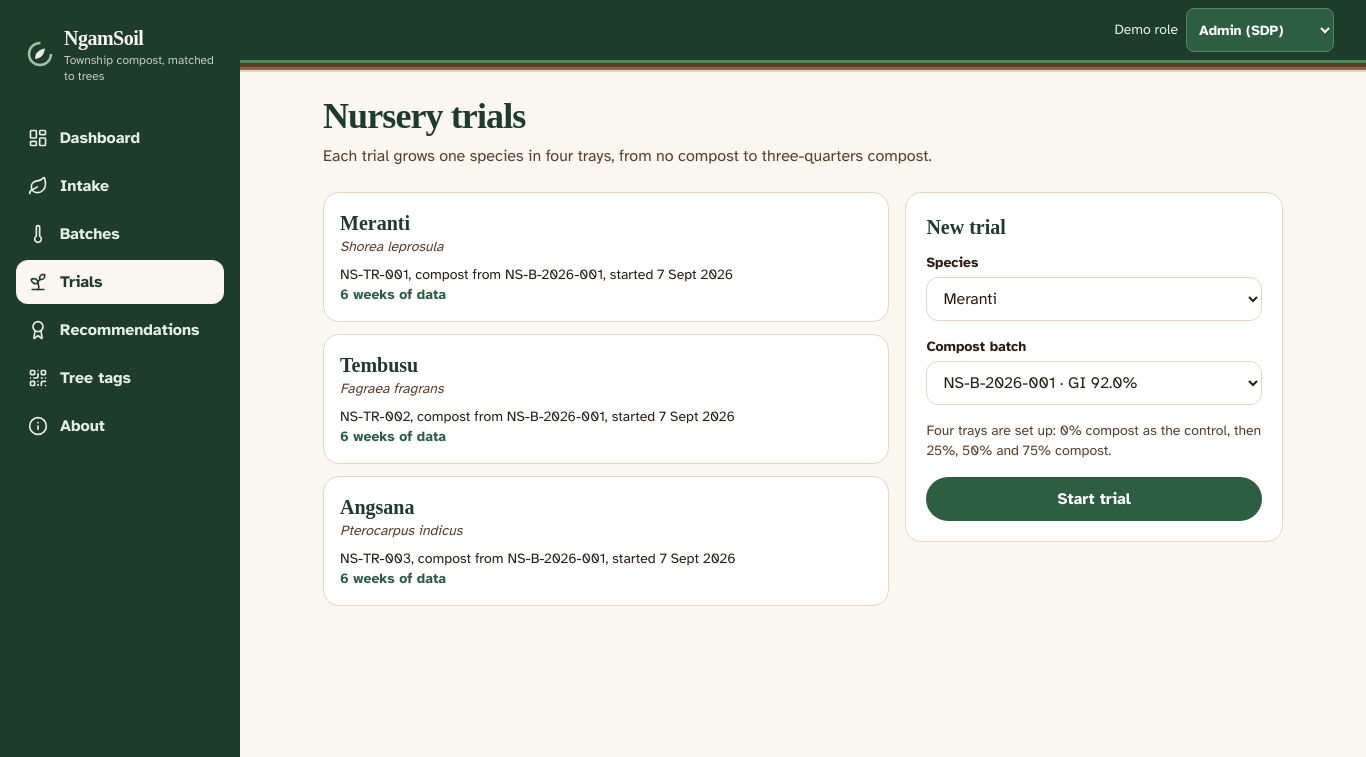
Test case: TrialsPage › creates a trial with four trays
The width and height of the screenshot is (1366, 757).
Select "Angsana" in the dropdown labelled "Species". click: x=1094, y=299
box: [926,277,1262,321]
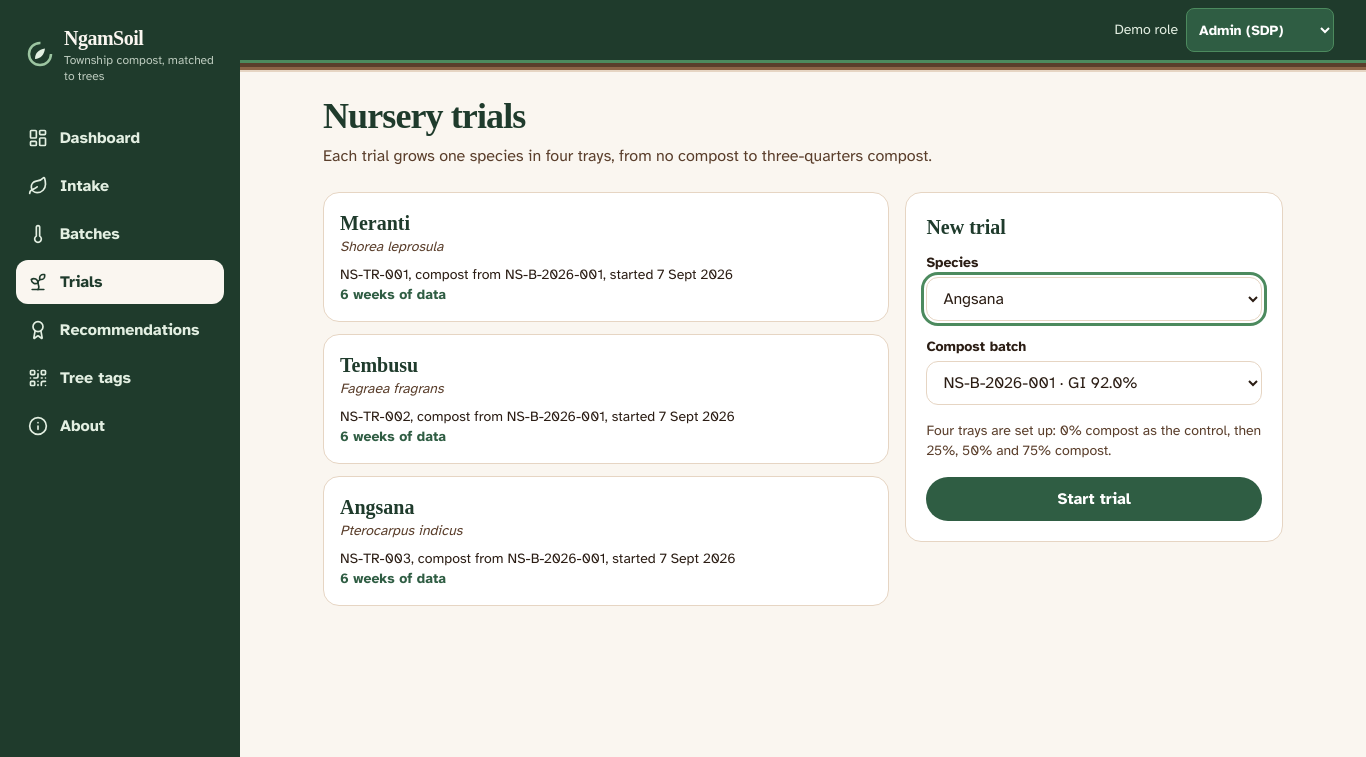
Click the button "Start trial". click: x=1094, y=499
box: [926,477,1262,521]
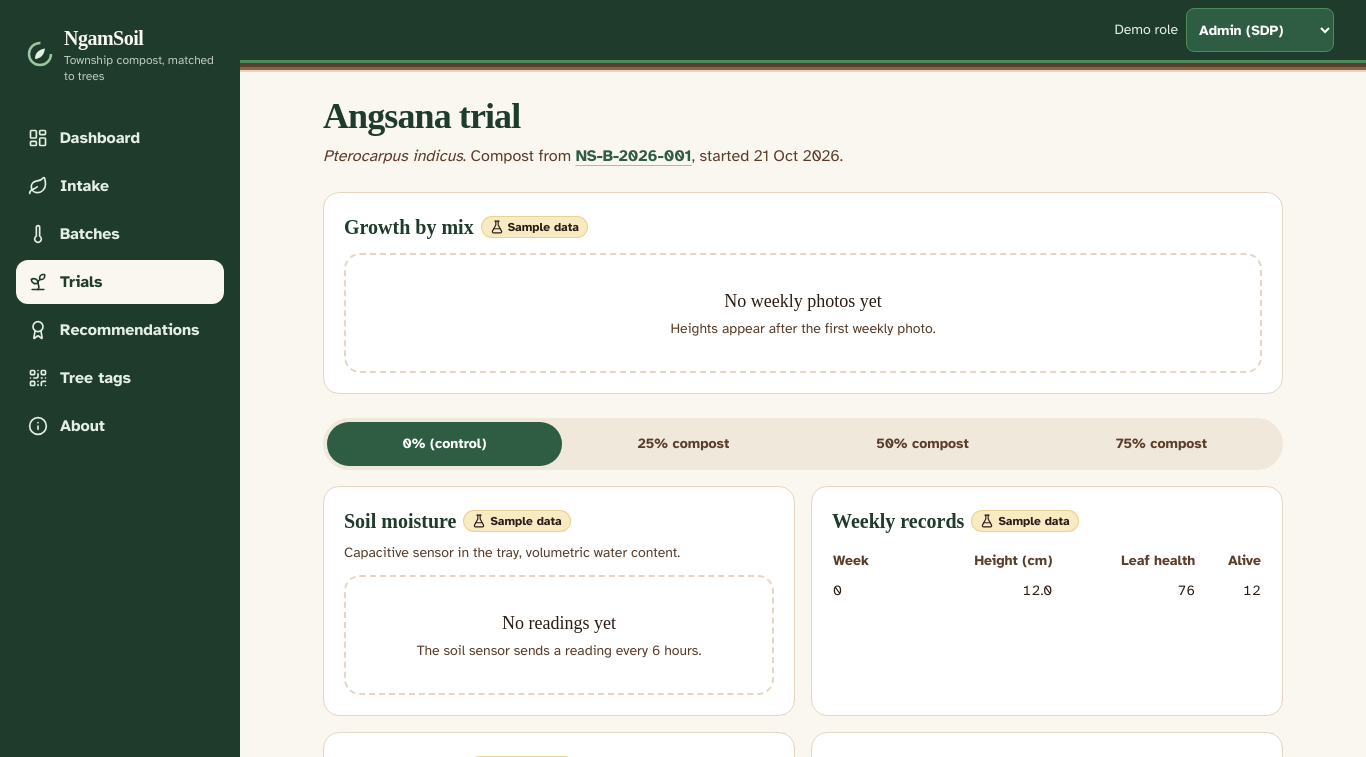
Now the heading "Angsana trial" is shown, box [323,96,520,136]
Now the tabs read "0% (control)", "25% compost", "50% compost", "75% compost", in this order, box [327,422,562,466]; [566,422,801,466]; [805,422,1040,466]; [1044,422,1279,466]
Now the text "No readings yet" is shown, box [502,613,616,633]
